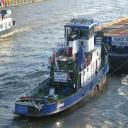tugboat: (13, 15, 112, 122)
